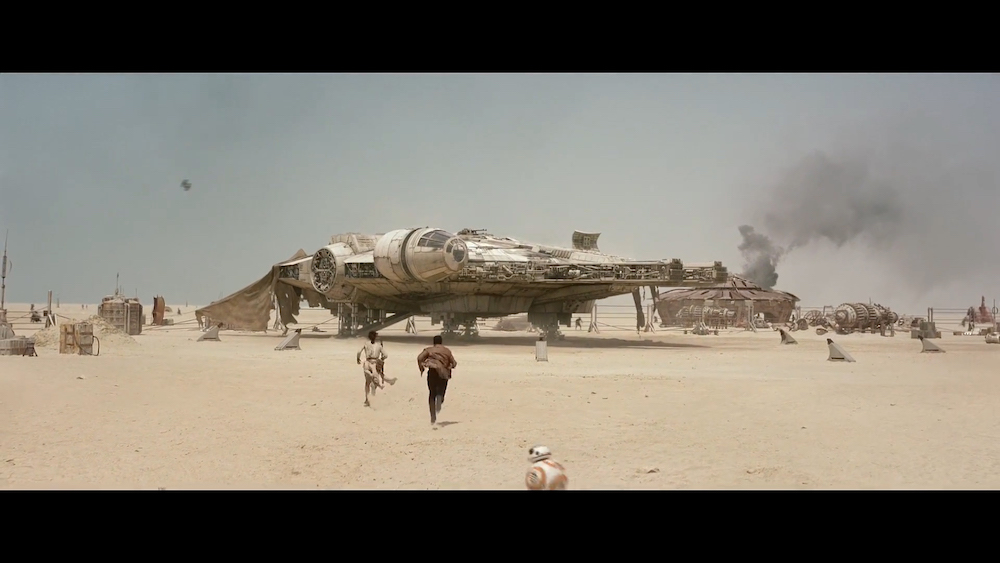Millennium Falcon: (271, 228, 727, 318)
Tie Fighter: (181, 181, 192, 192)
